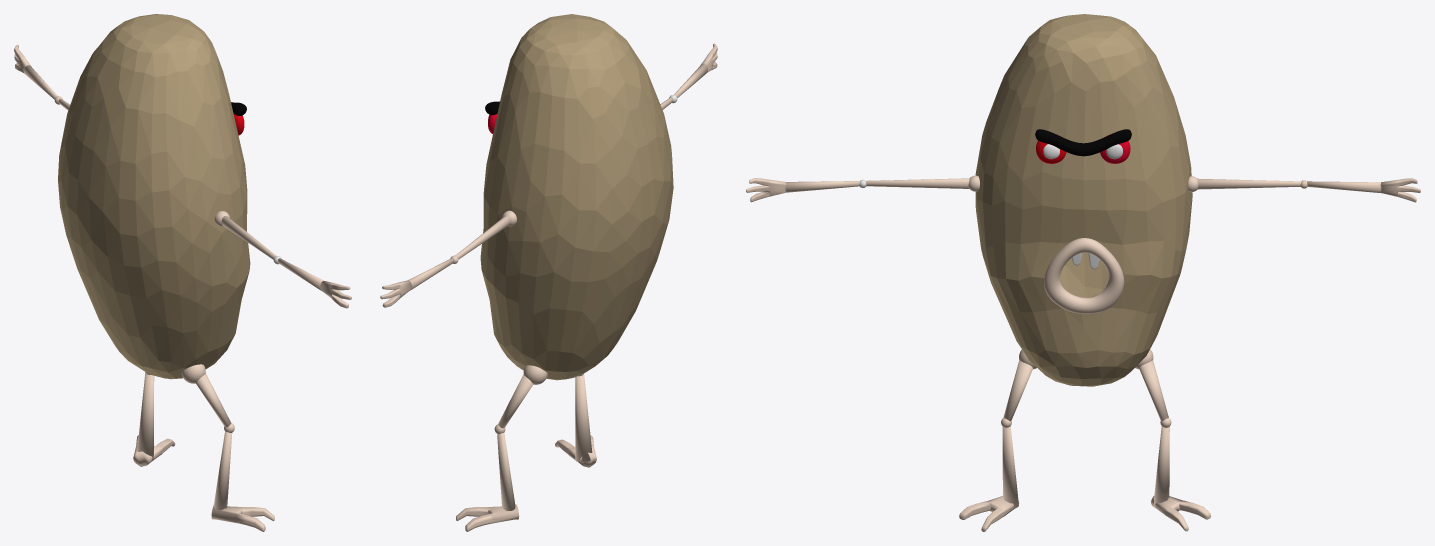
The model's file is potato_COLORIZED.fbx.
The picture shows the model from 3 angles, left to right: view 1: azimuth 30°, elevation 25°; view 2: azimuth 150°, elevation 25°; view 3: azimuth 270°, elevation 25°; orthographic projection.
Visible parts, largest first — view 1: Cube, Cylinder.008, Cube.011, Cylinder.009, Cylinder.010, Cylinder.002, Cube.005, Cube.010, Cylinder.001; view 2: Cube, Cylinder.009, Cube.005, Cylinder.008, Cylinder.007, Cylinder.005, Cube.008, Cube.011, Cylinder.006; view 3: Cube, Torus, Cylinder, Cylinder.009, Cylinder.008, Cylinder.002, Cylinder.005, Cube.005, Cube.011, Cylinder.007, Cylinder.010.
Boxes of the visible parts, <box> form: Cube: <box>58,14,250,379</box>; Cylinder.008: <box>137,373,154,460</box>; Cube.011: <box>211,505,274,531</box>; Cylinder.009: <box>214,431,232,510</box>; Cylinder.010: <box>196,373,231,427</box>; Cylinder.002: <box>221,216,276,259</box>; Cube.005: <box>133,435,175,466</box>; Cube.010: <box>319,281,351,308</box>; Cylinder.001: <box>278,258,324,290</box>; Cube: <box>480,14,673,380</box>; Cylinder.009: <box>575,374,592,461</box>; Cube.005: <box>456,504,519,531</box>; Cylinder.008: <box>497,433,515,510</box>; Cylinder.007: <box>498,374,533,428</box>; Cylinder.005: <box>455,215,510,259</box>; Cube.008: <box>380,280,412,307</box>; Cube.011: <box>555,435,596,467</box>; Cylinder.006: <box>408,258,454,289</box>; Cube: <box>975,14,1192,386</box>; Torus: <box>1044,238,1124,313</box>; Cylinder: <box>1035,129,1131,156</box>; Cylinder.009: <box>1002,426,1018,508</box>; Cylinder.008: <box>1153,426,1169,507</box>; Cylinder.002: <box>865,178,969,188</box>; Cylinder.005: <box>1197,178,1301,189</box>; Cube.005: <box>1151,496,1210,531</box>; Cube.011: <box>959,496,1019,531</box>; Cylinder.007: <box>1139,360,1168,421</box>; Cylinder.010: <box>1003,360,1032,421</box>.
Bounding box in the file's own units: 279 × 816 × 1048.
